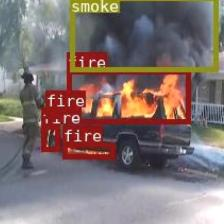fire: (66, 68, 190, 124), (62, 142, 114, 159), (41, 124, 58, 151), (45, 106, 60, 118)
smoke: (69, 0, 217, 71)
